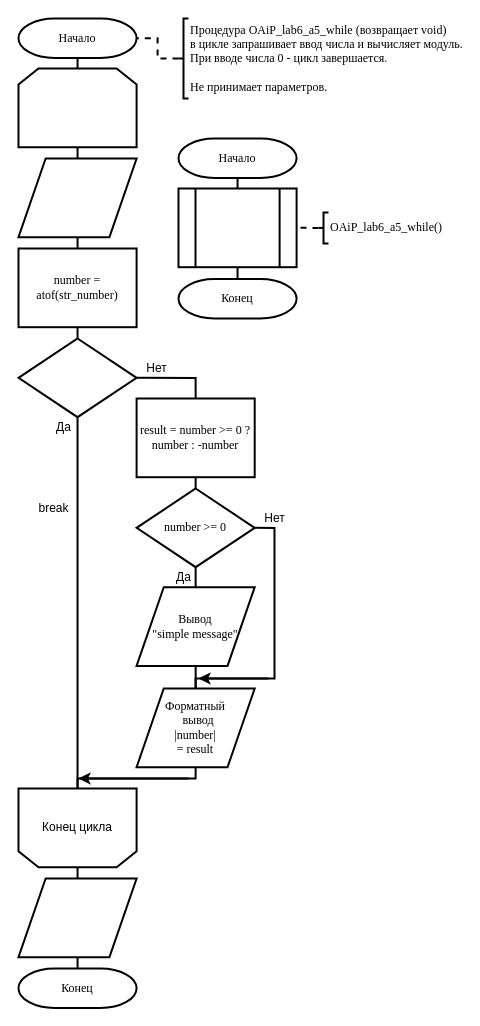
The diagram is 480 pixels wide and 1026 high, and some of its shapes have lost their labels. The centre of each missing label's shape, as x and y in pixels:
number == 0: (77,377)
Ввод str_number: (77,197)
Вывод сообщения "end cycle": (77,917)
Вызов процедуры: (237,227)
Начало цикла: (77,107)
